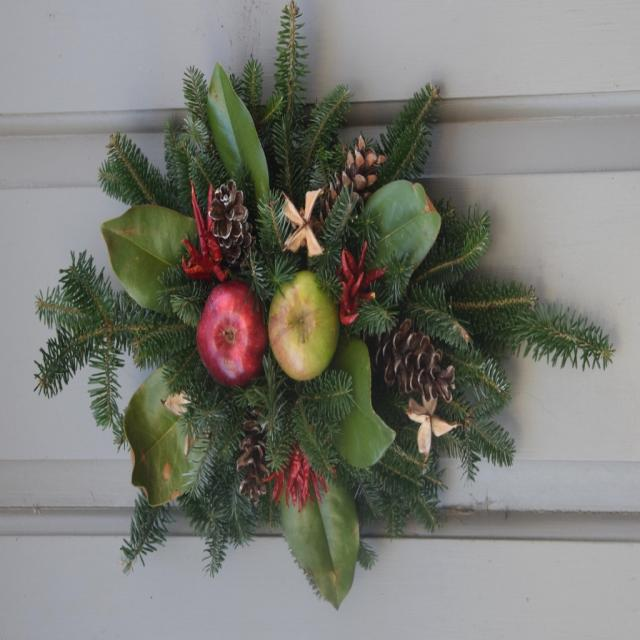Healty Apple: (266, 271, 341, 384), (198, 278, 264, 402)
